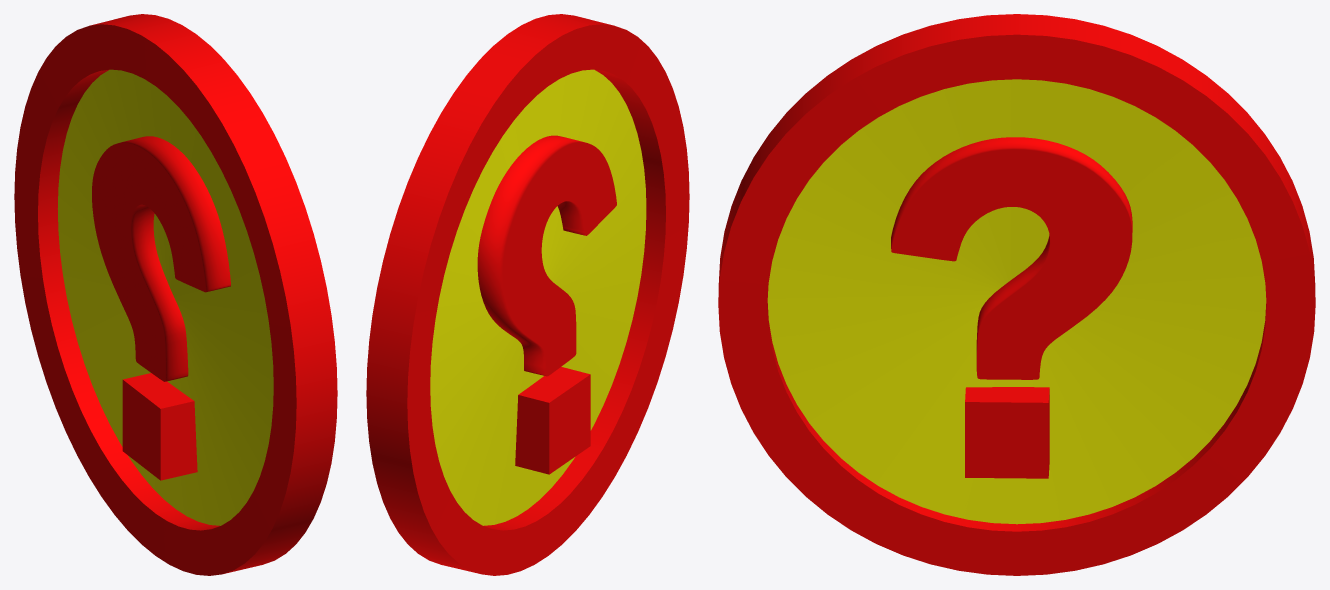
The model's file is question.obj.
3 renders of one model, left to right at view 1: azimuth 30°, elevation 25°; view 2: azimuth 150°, elevation 25°; view 3: azimuth 270°, elevation 25°, orthographic. The views are drawn at different scales.
Parts seen in each view (by area): view 1: r0002.92615, r0003.14048, p0000.28569, p0001.82809; view 2: r0002.92615, r0003.14048, p0000.28569, p0001.82809; view 3: r0003.14048, r0002.92615, p0000.28569, p0001.82809.
Part boxes in pixels (x1,y1,x2,y2): r0002.92615: [14, 14, 337, 575]; r0003.14048: [57, 69, 273, 525]; p0000.28569: [92, 136, 230, 381]; p0001.82809: [122, 373, 197, 480]; r0002.92615: [366, 14, 689, 575]; r0003.14048: [430, 69, 646, 525]; p0000.28569: [477, 135, 616, 376]; p0001.82809: [515, 367, 590, 474]; r0003.14048: [767, 79, 1266, 524]; r0002.92615: [718, 14, 1315, 575]; p0000.28569: [891, 137, 1132, 379]; p0001.82809: [965, 387, 1049, 478].
Bounding box in the file's own units: 0.0955 × 0.6654 × 0.6654.
